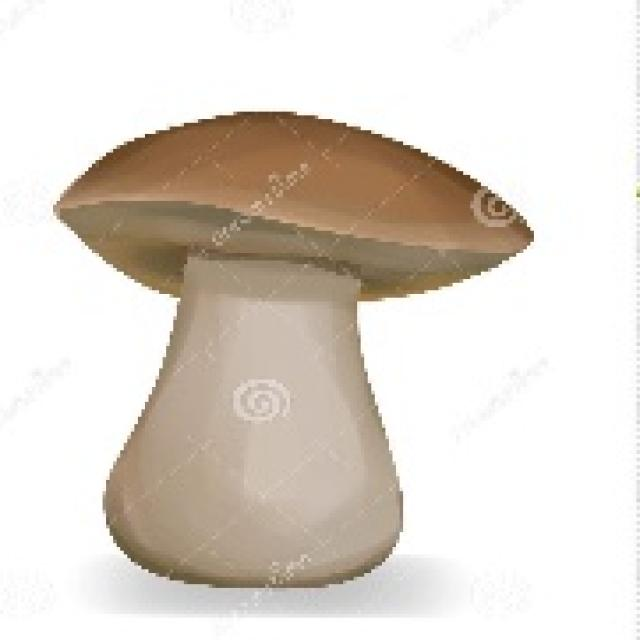mushroom: (46, 90, 527, 610)
